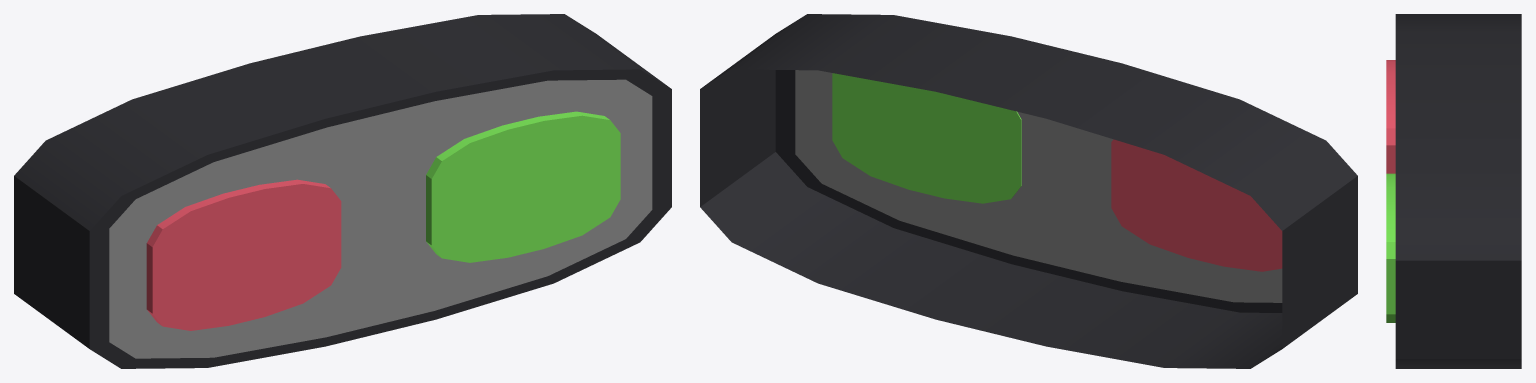
The model's file is Lightboard.fbx.
The picture shows the model from 3 angles, left to right: view 1: azimuth 30°, elevation 25°; view 2: azimuth 150°, elevation 25°; view 3: azimuth 270°, elevation 25°; orthographic projection. The views are drawn at different scales.
Parts seen in each view (by area): view 1: LightBoard, Red, Green; view 2: LightBoard, Green, Red; view 3: LightBoard, Green, Red.
Boxes of the visible parts, x1=… form: LightBoard: x1=14, y1=14, x2=671, y2=368; Red: x1=146, y1=179, x2=341, y2=330; Green: x1=426, y1=111, x2=620, y2=262; LightBoard: x1=700, y1=14, x2=1357, y2=368; Green: x1=832, y1=73, x2=1021, y2=203; Red: x1=1111, y1=139, x2=1282, y2=271; LightBoard: x1=1395, y1=14, x2=1521, y2=368; Green: x1=1386, y1=173, x2=1395, y2=322; Red: x1=1386, y1=60, x2=1395, y2=173.
Bounding box in the file's own units: 196 × 47.35 × 73.11.
